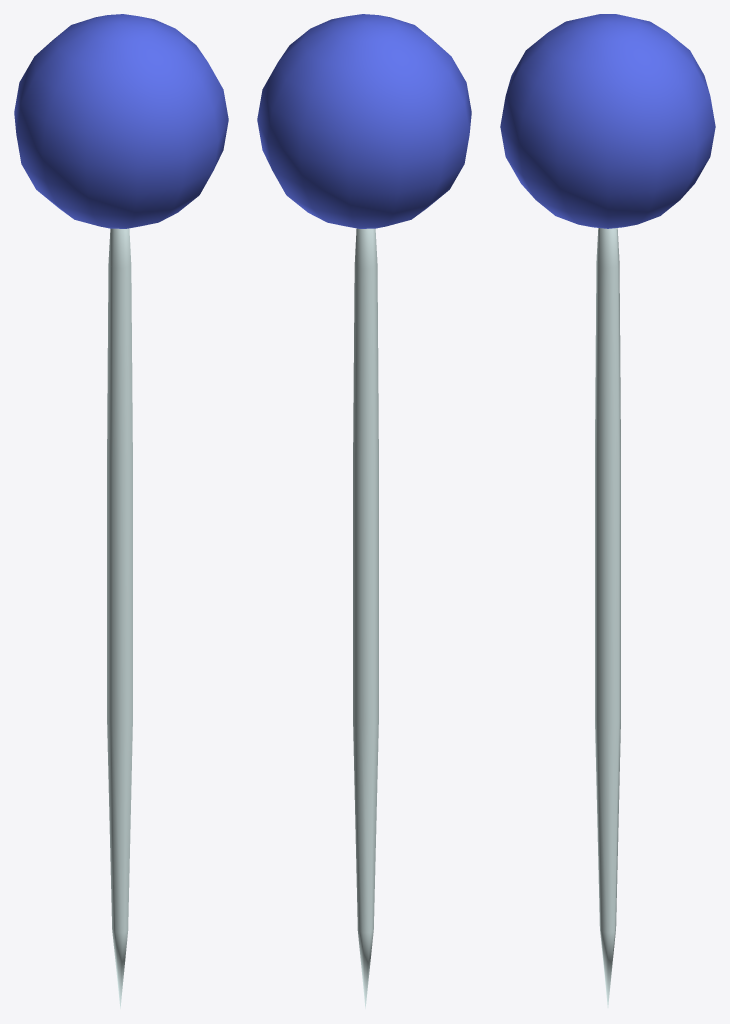
Rendered from pinblue.glb.
3 views of the same model, side by side, from view 1: azimuth 30°, elevation 25°; view 2: azimuth 150°, elevation 25°; view 3: azimuth 270°, elevation 25° (orthographic).
Size of the model in its own units: 1.97 by 10.04 by 1.99.
